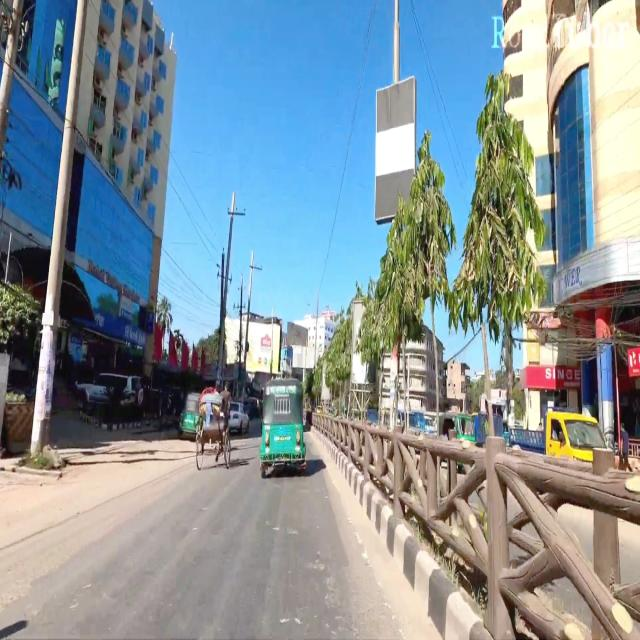white: (230, 399, 252, 437)
